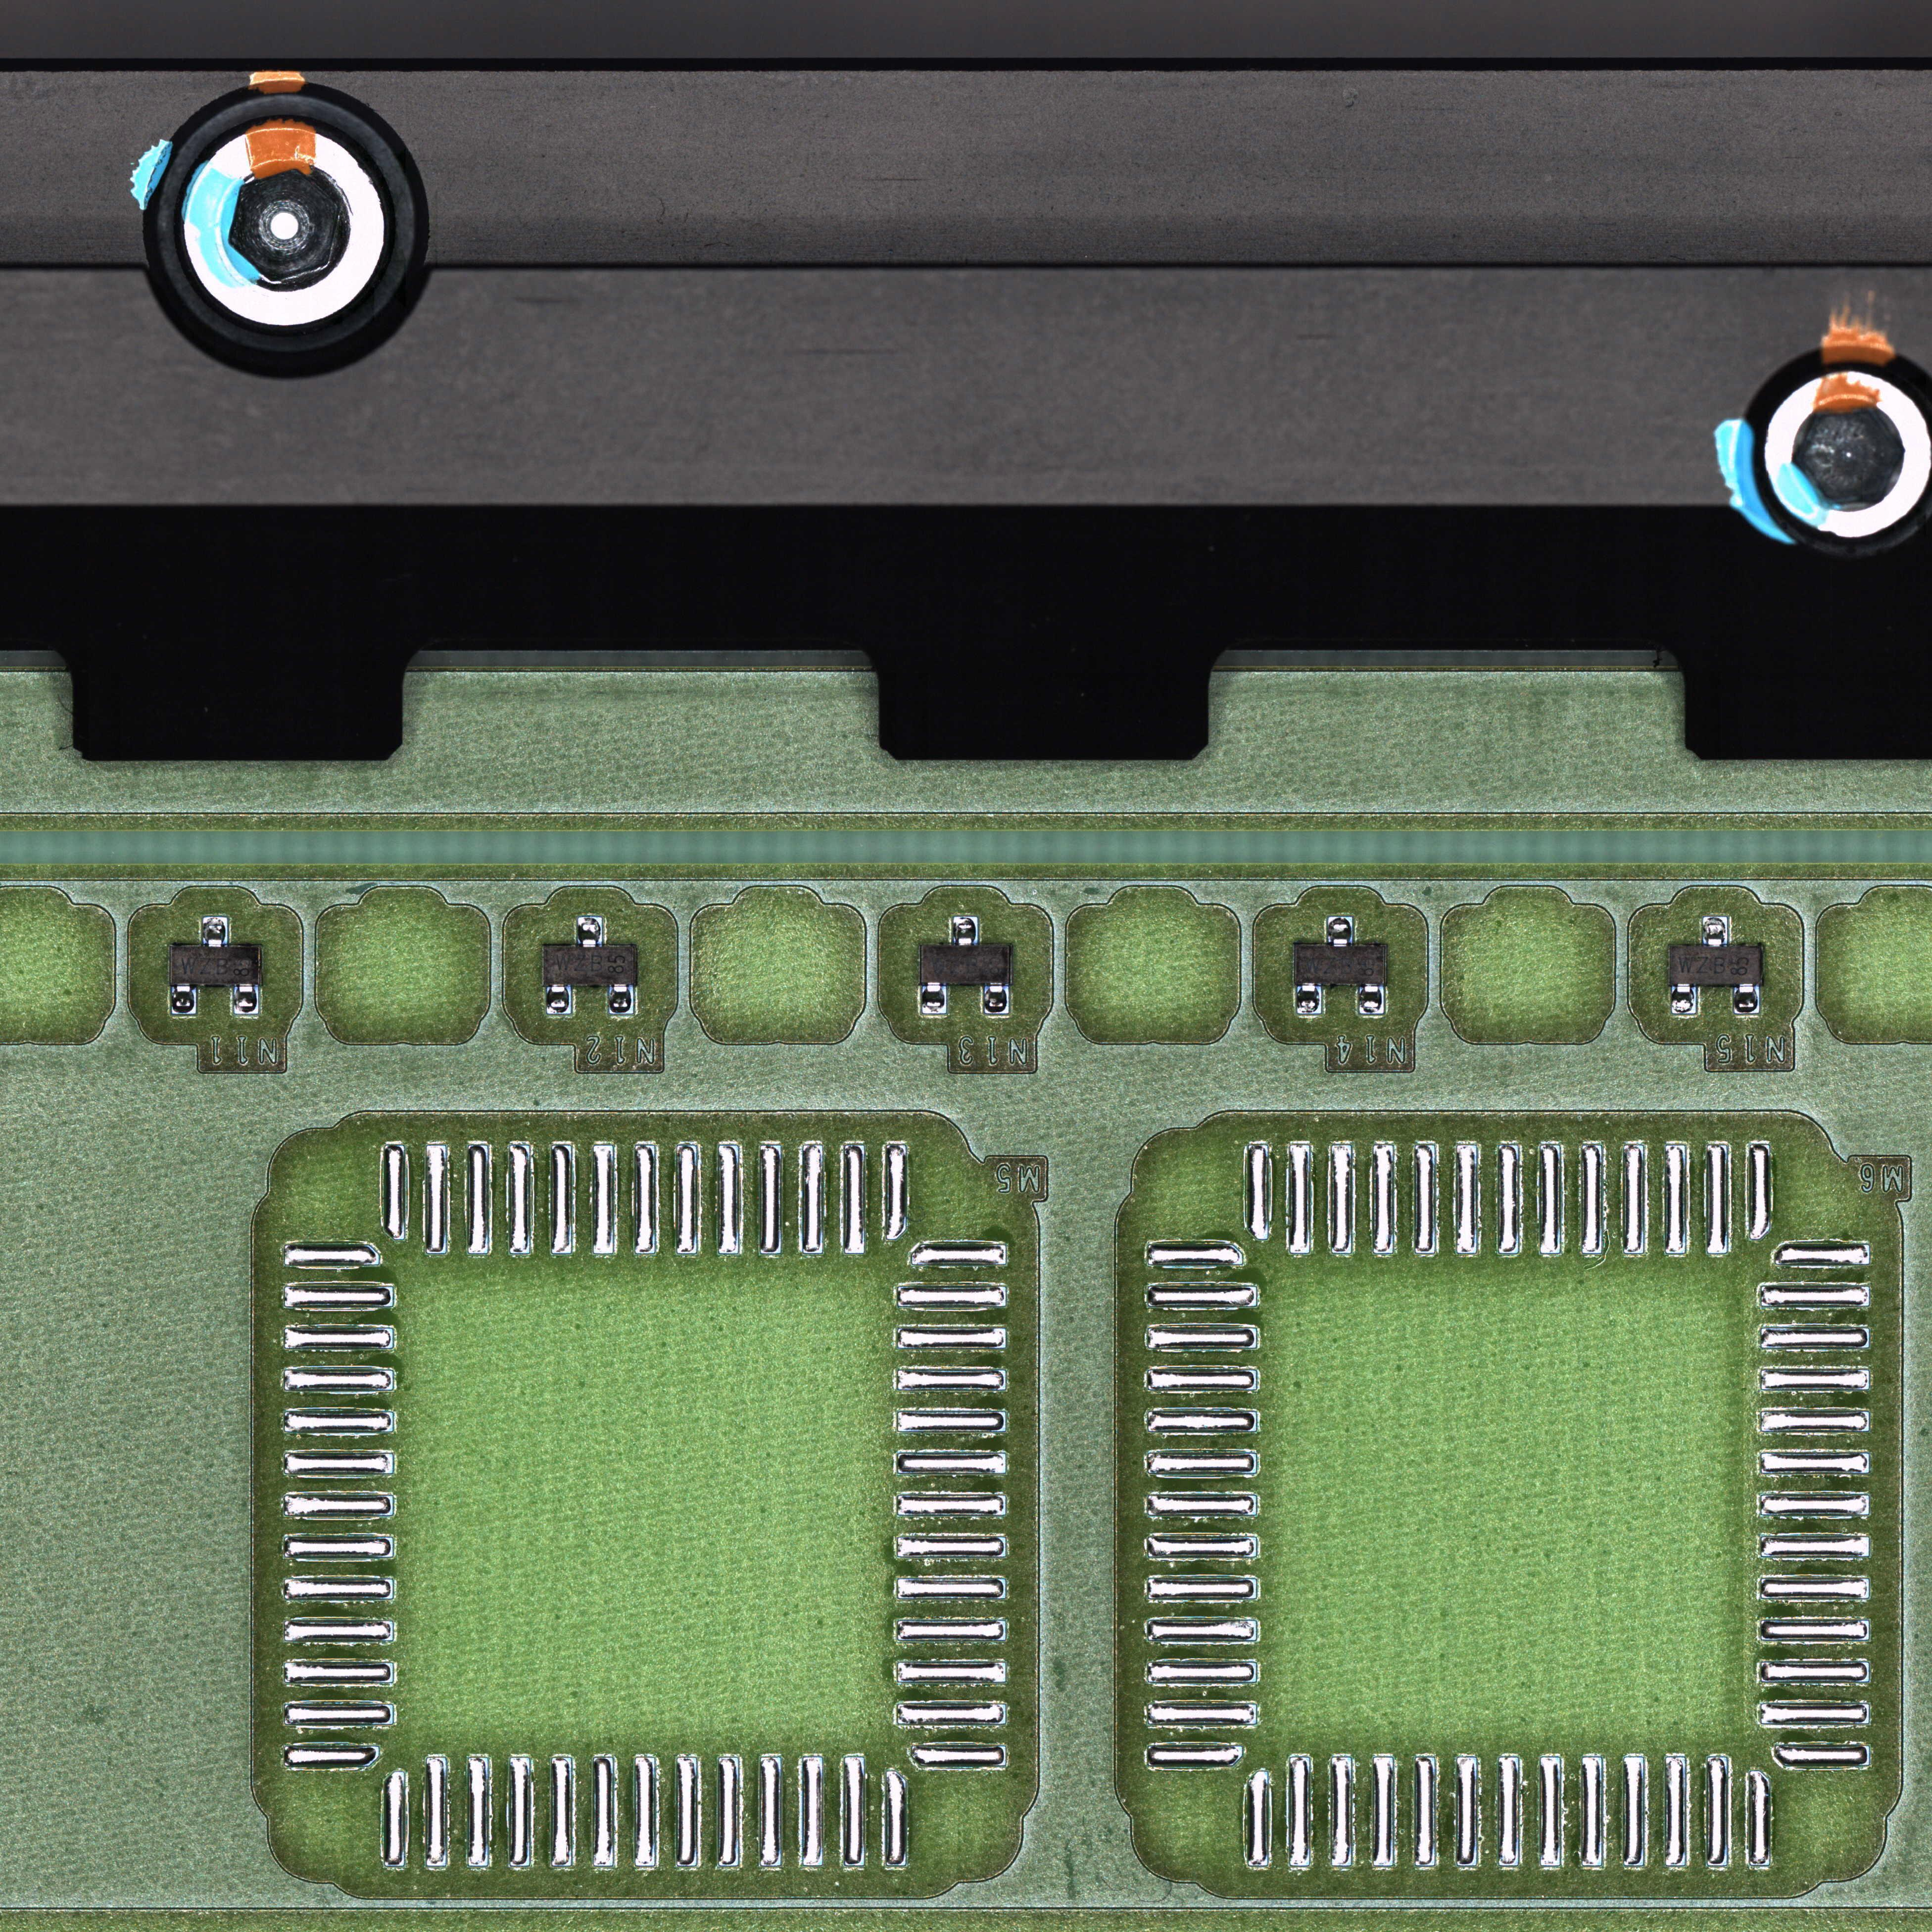Package: (1670, 947, 1760, 984), (1295, 947, 1385, 984), (543, 947, 633, 984), (170, 948, 260, 984), (922, 947, 1010, 982)
Solder: (1327, 916, 1353, 947), (984, 982, 1008, 1014), (922, 982, 947, 1014), (1734, 984, 1759, 1014), (1672, 984, 1697, 1014), (1297, 984, 1322, 1014), (609, 984, 633, 1014), (577, 916, 602, 947), (234, 984, 258, 1014), (547, 984, 571, 1014), (1359, 984, 1384, 1014), (1702, 916, 1727, 947), (954, 916, 978, 947), (172, 984, 196, 1014), (203, 916, 228, 947)
